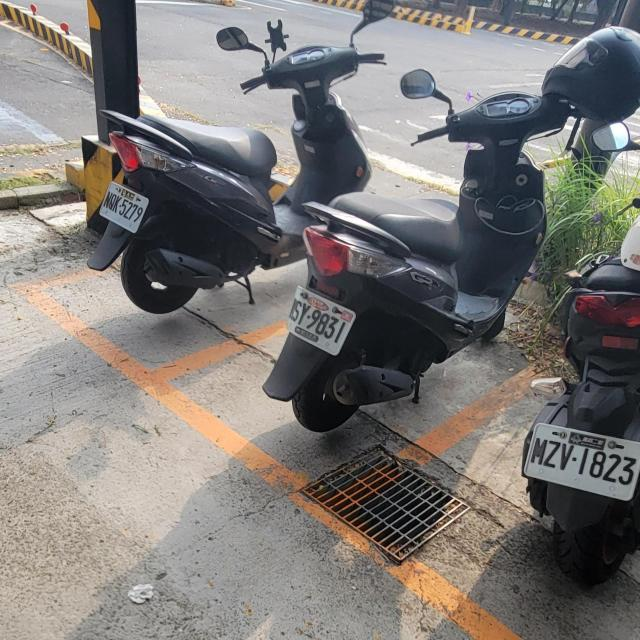W: (522, 421, 640, 501), (282, 284, 358, 357), (97, 180, 150, 234)
